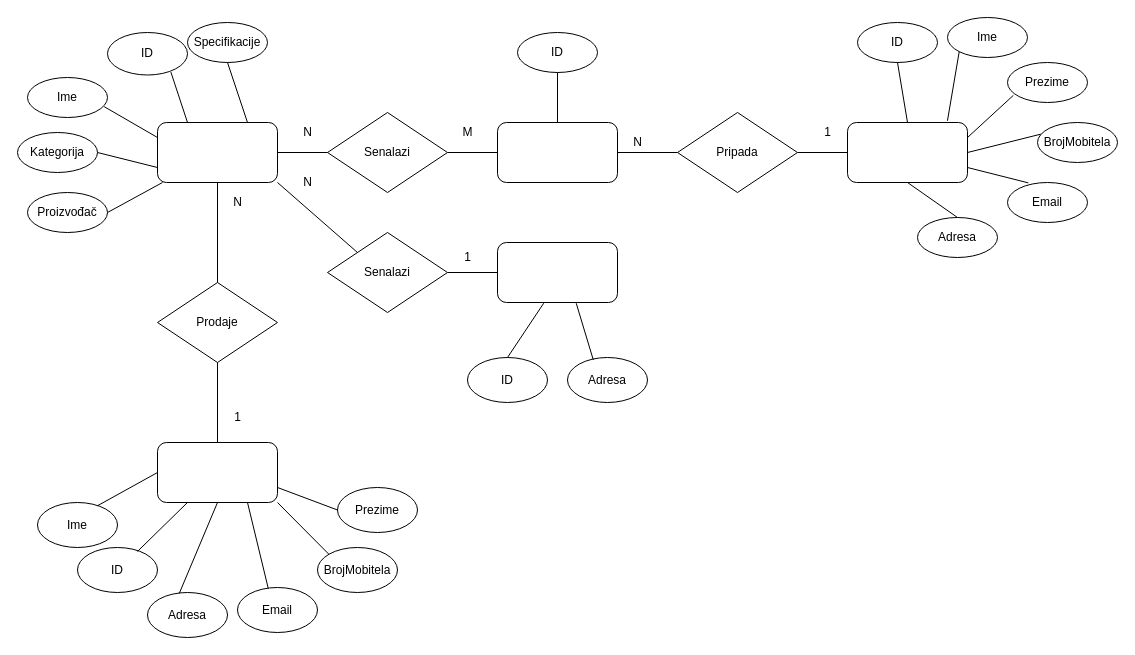
This 1135x655 diagram has some shape labels left out. The shapes that lost their labels are listed below. From the top down, each one's box as (x1, y1, x2, y2) in pixels, then its label:
(156, 122, 278, 182): Proizvod
(496, 122, 618, 182): Kosarica
(846, 122, 968, 182): Kupac
(496, 242, 618, 302): Lokacija
(156, 442, 278, 502): Prodavač
